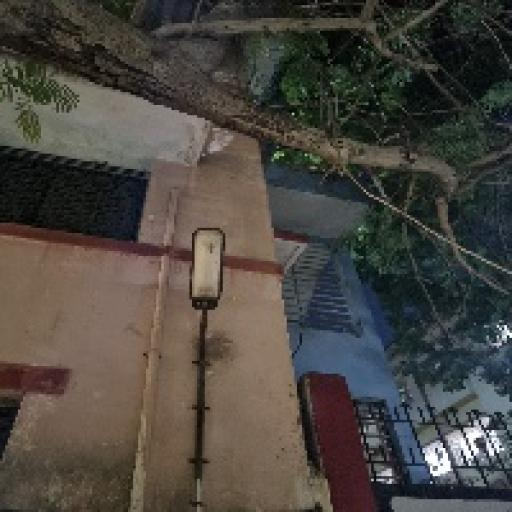Not Working: (172, 214, 248, 322)
